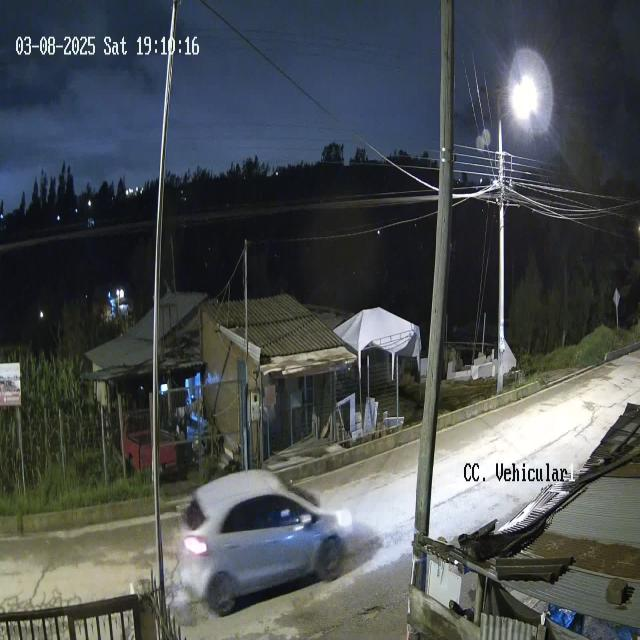SUV: (174, 464, 355, 618)
